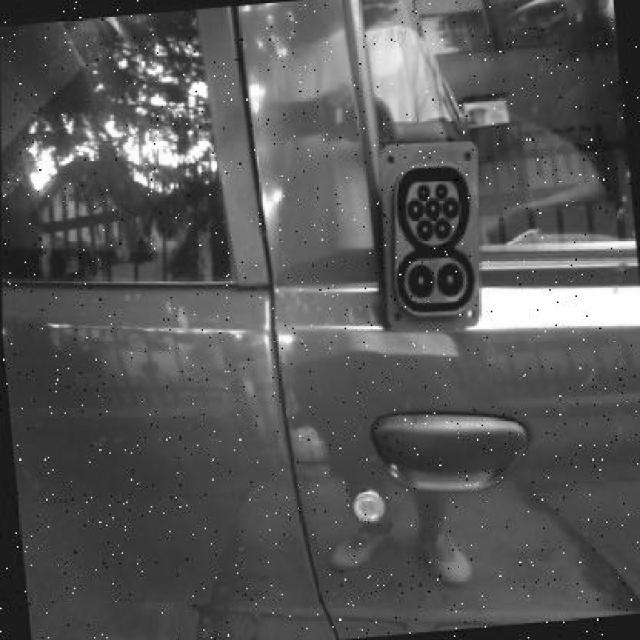CCS2: (377, 157, 487, 309)
